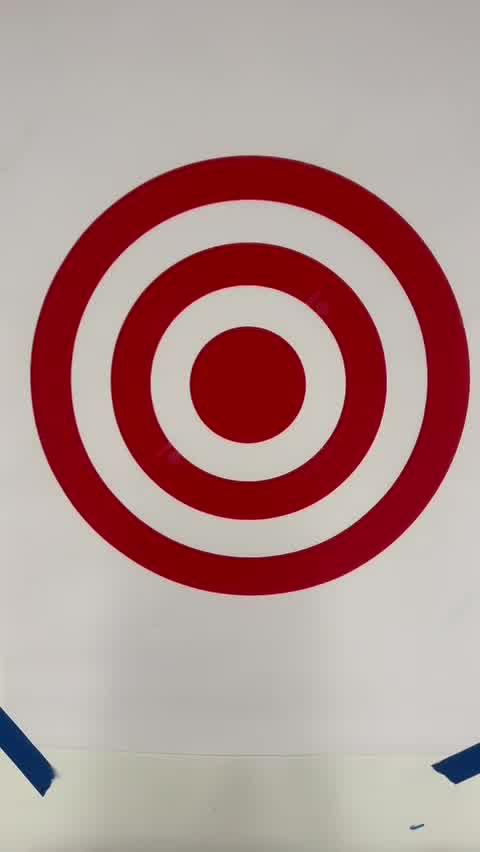target_red: (31, 154, 469, 598)
